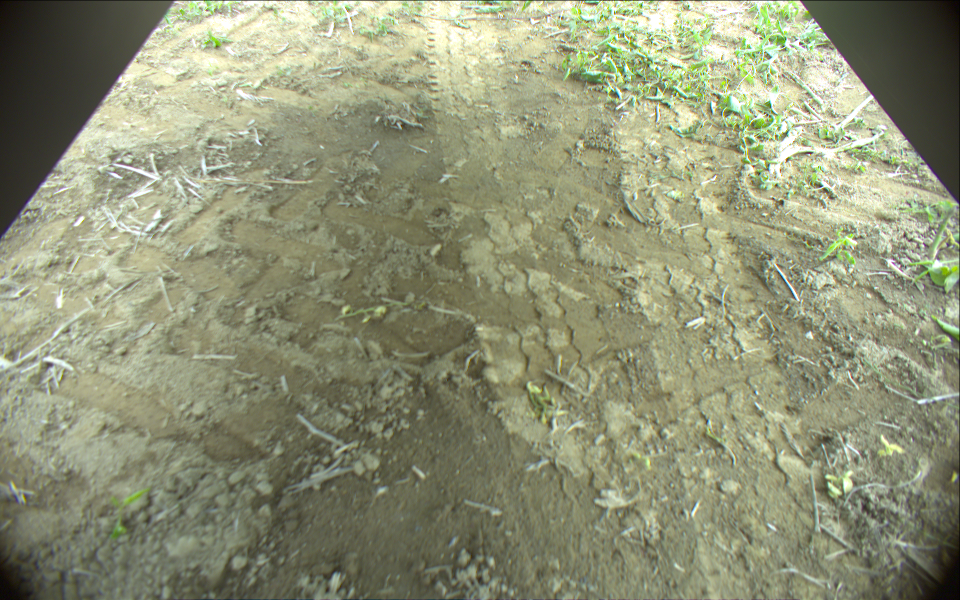aspa: (928, 206, 956, 260)
